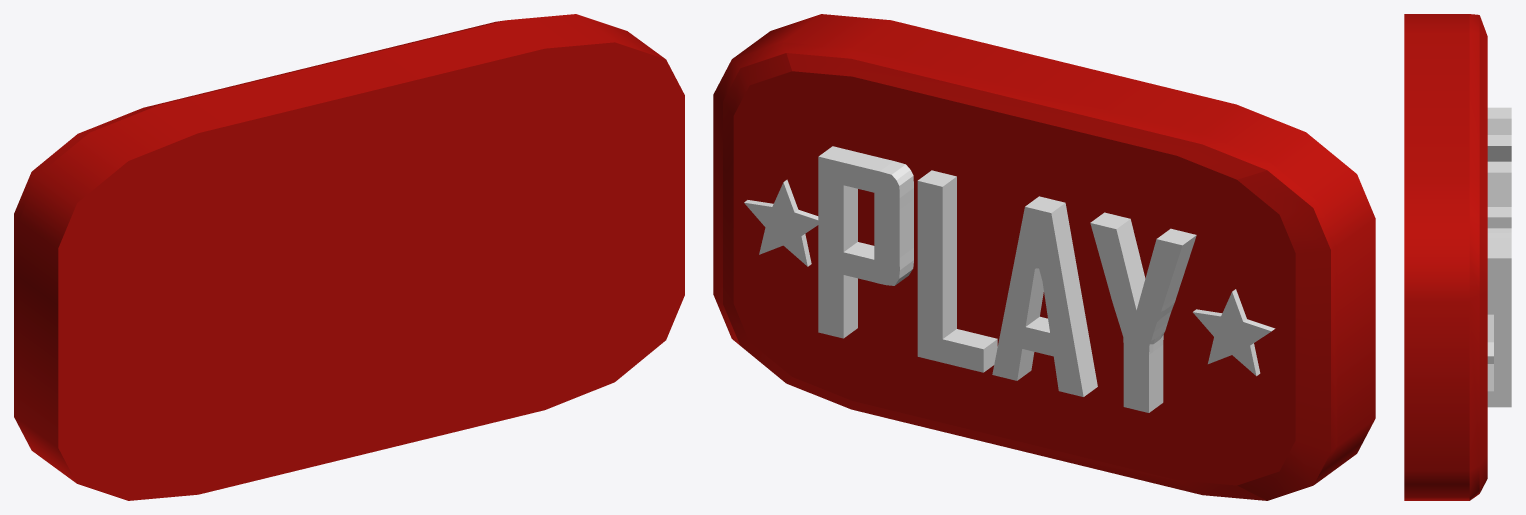
The model's file is botonplayVRBOX (1).fbx.
The picture shows the model from 3 angles, left to right: view 1: azimuth 30°, elevation 25°; view 2: azimuth 150°, elevation 25°; view 3: azimuth 270°, elevation 25°; orthographic projection. The views are drawn at different scales.
Parts seen in each view (by area): view 1: Text.002; view 2: Text.002; view 3: Text.002.
Part boxes in pixels (x1,y1,x2,y2): Text.002: (14, 14, 684, 500); Text.002: (713, 14, 1375, 500); Text.002: (1404, 14, 1511, 500).
Size of the model in its own units: 54.41 by 30 by 9.58.
